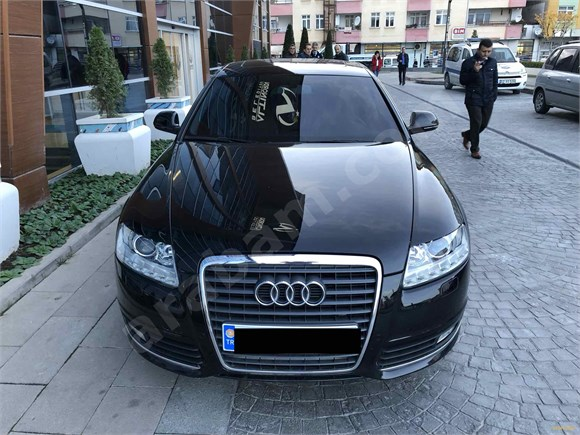audi: (254, 276, 329, 311)
